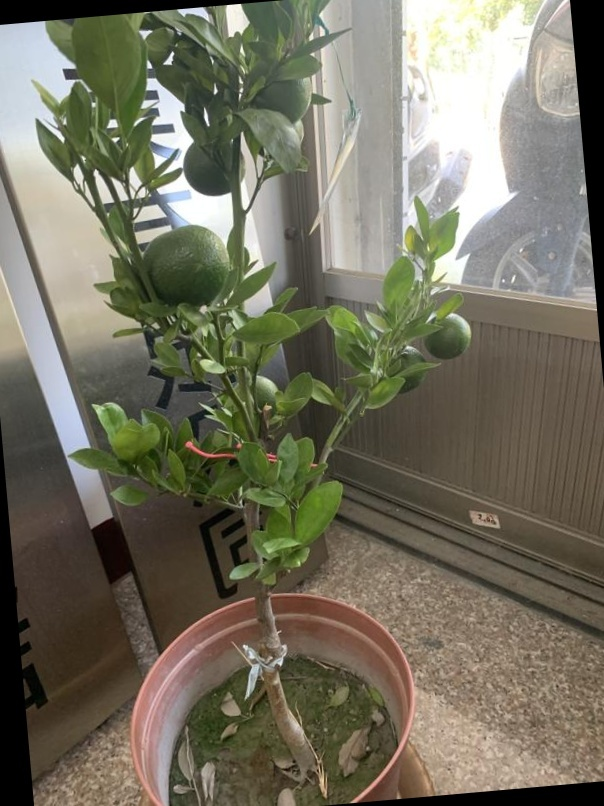Tangerine: (144, 222, 229, 310), (185, 135, 245, 196), (426, 310, 472, 359)
